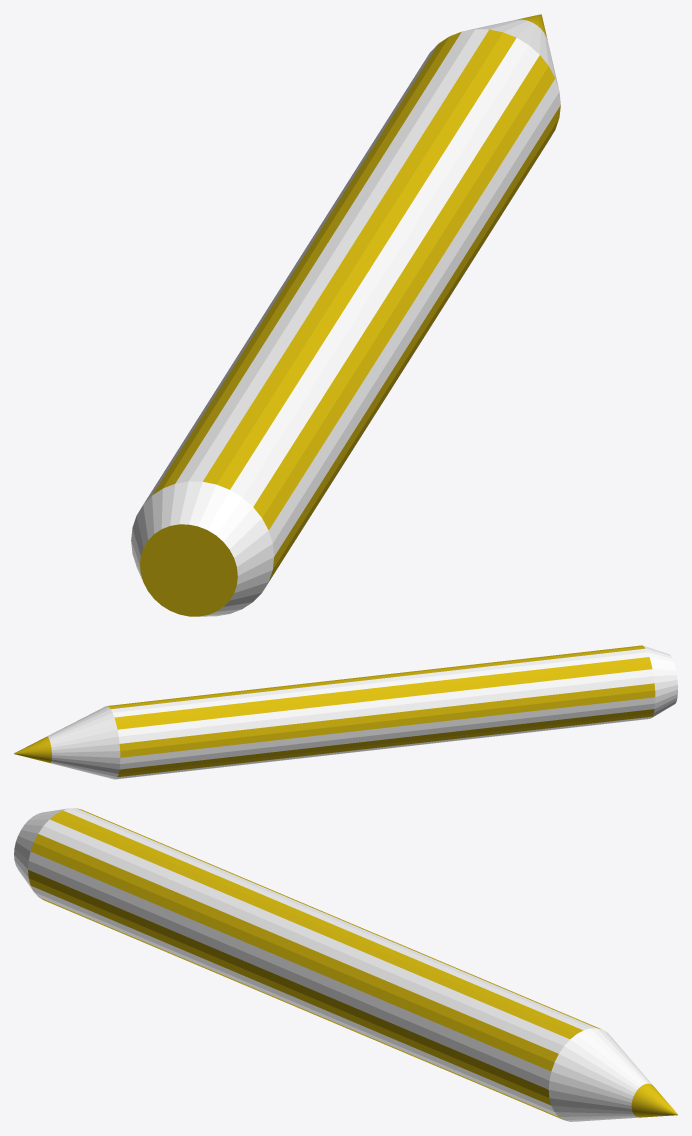
Rendered from colorful-pencils.fbx.
3 views of the same model, one above another, from view 1: azimuth 30°, elevation 25°; view 2: azimuth 150°, elevation 25°; view 3: azimuth 270°, elevation 25° (orthographic). The views are drawn at different scales.
Visible parts, largest first — view 1: Cylinder.011; view 2: Cylinder.011; view 3: Cylinder.011.
Boxes of the visible parts, bbox=[...] form: Cylinder.011: bbox=[131, 14, 560, 616]; Cylinder.011: bbox=[14, 645, 677, 779]; Cylinder.011: bbox=[14, 808, 677, 1121].
Bounding box in the file's own units: 567 × 84.11 × 567.
